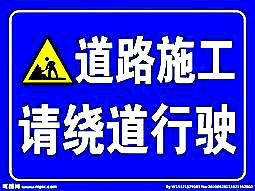sign: (9, 8, 246, 181)
